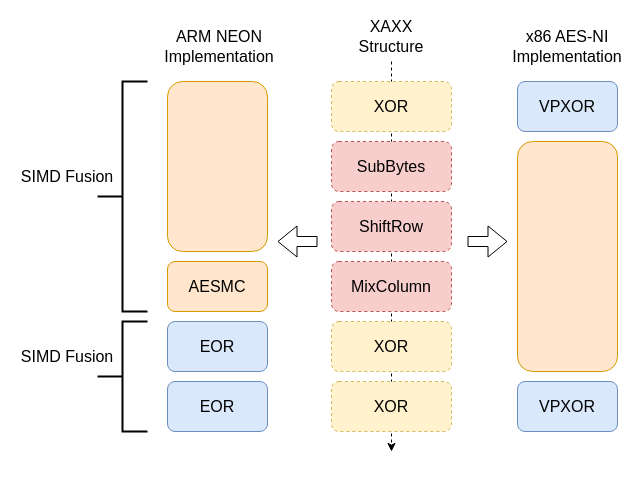
This 639x477 diagram has some shape labels left out. Each missing label, with the box of its shape:
AESE: (166, 80, 268, 252)
AESENC: (516, 140, 618, 372)
